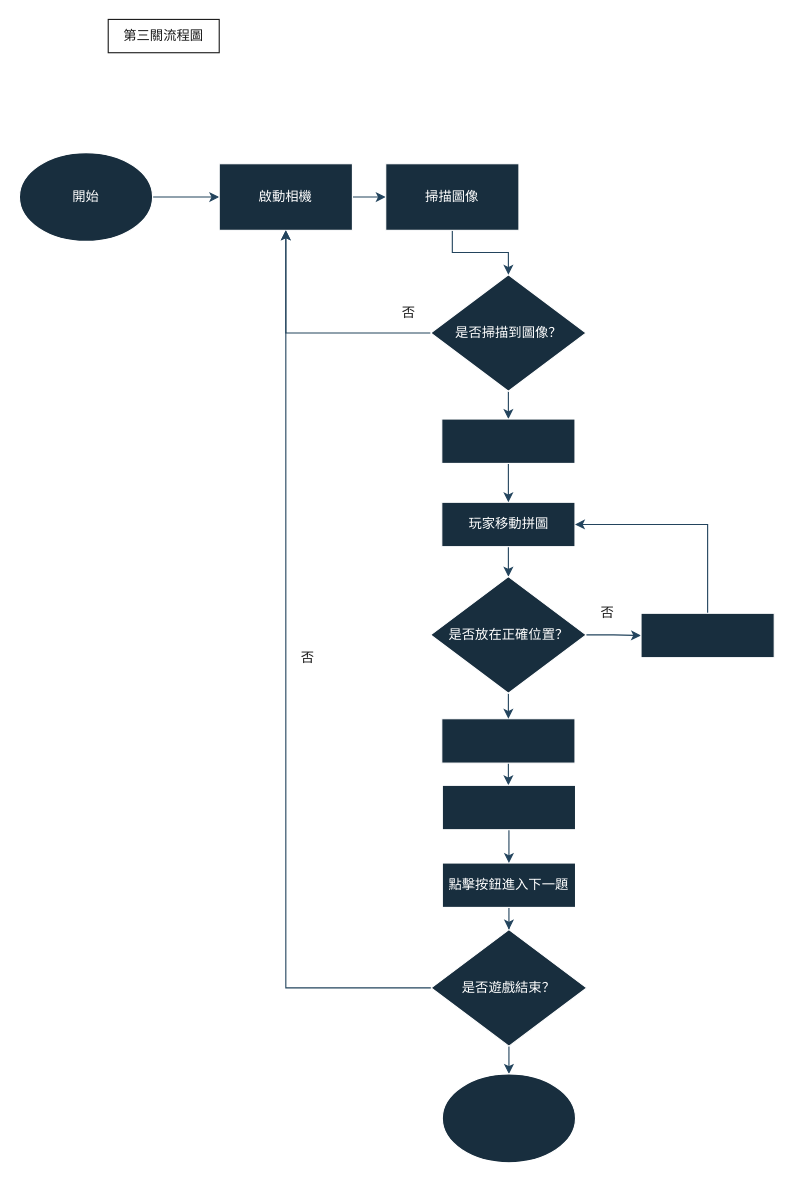
Image size: 794x1182. Some labels were removed from this diagram. Each missing label, with the centre of its shape:
"出現拼圖" belongs at point (508, 440).
"加分" belongs at point (508, 740).
"返回原位" belongs at point (707, 635).
"遊戲結束" belongs at point (508, 1118).
"顯示完整圖像與資訊" belongs at point (508, 807).
